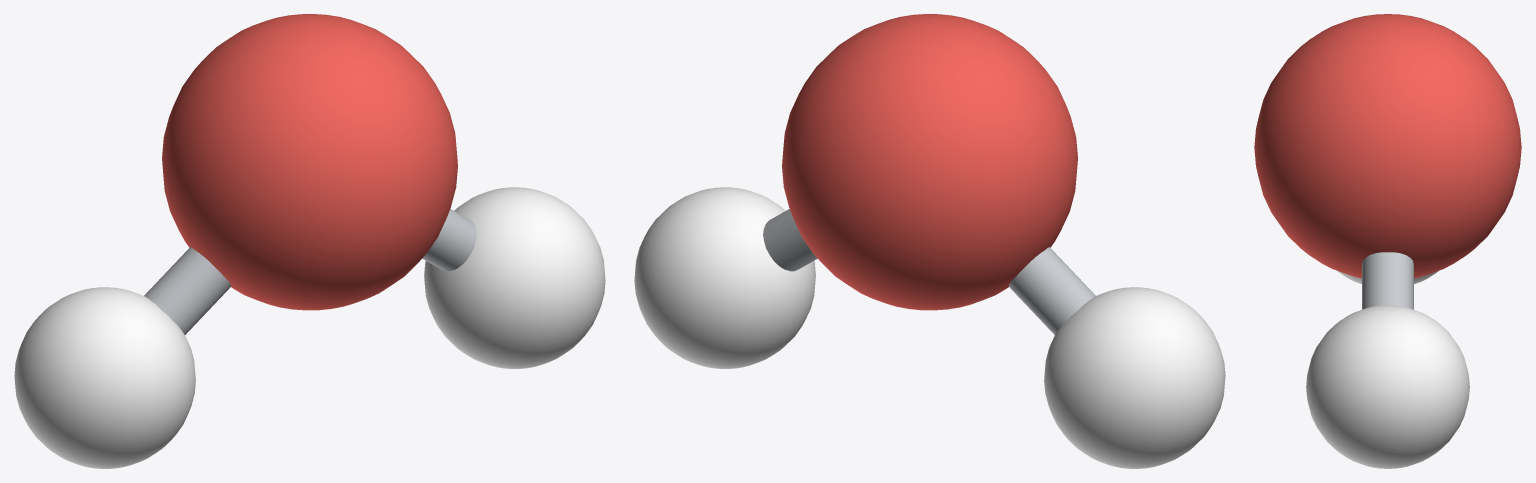
File: water-molecule.glb
3 views of the same model, side by side, from view 1: azimuth 30°, elevation 25°; view 2: azimuth 150°, elevation 25°; view 3: azimuth 270°, elevation 25° (orthographic). The views are drawn at different scales.
Parts seen in each view (by area): view 1: Oxygen, Hydrogen, Bond; view 2: Oxygen, Hydrogen, Bond; view 3: Oxygen, Hydrogen, Bond.
Part boxes in pixels (bbox=[...]): Oxygen: bbox=[162, 14, 457, 310]; Hydrogen: bbox=[14, 187, 605, 468]; Bond: bbox=[144, 209, 476, 334]; Oxygen: bbox=[782, 14, 1077, 310]; Hydrogen: bbox=[634, 187, 1225, 468]; Bond: bbox=[763, 209, 1095, 334]; Oxygen: bbox=[1254, 14, 1521, 278]; Hydrogen: bbox=[1306, 271, 1469, 468]; Bond: bbox=[1362, 252, 1413, 309].
Bounding box in the file's own units: 0.2737 × 0.1765 × 0.124.
